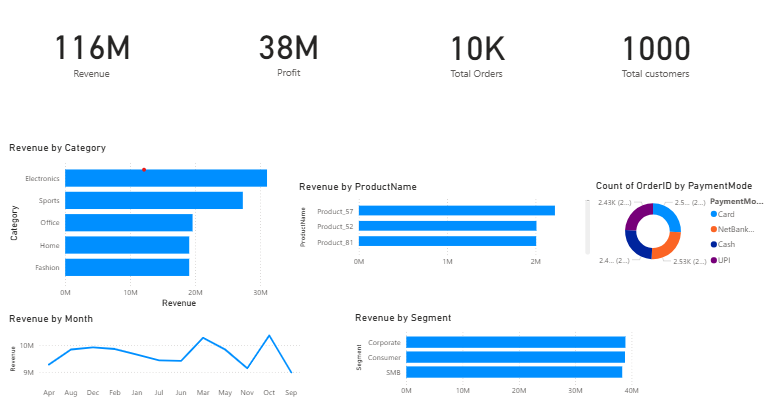

Layout of this report page (visuals, bound fields, positions):
{"tool":"powerbi","page":{"name":"Page 1","canvas":[1280,720],"ordinal":0},"visuals":[{"type":"card","fields":{"Values":["customers.Revenue"]},"box":[10,0,280,280],"z":0},{"type":"card","fields":{"Values":["customers.Profit"]},"box":[332.6,0,280.5,278.8],"z":1000},{"type":"card","fields":{"Values":["customers.Total Orders"]},"box":[640,1.7,280.5,278.8],"z":2000},{"type":"card","fields":{"Values":["customers.Total customers"]},"box":[934,1.7,280.5,278.8],"z":3000},{"type":"clusteredBarChart","fields":{"Category":["products.Category"],"Y":["customers.Revenue"]},"box":[10.1,290.6,487.1,278.8],"z":4000},{"type":"barChart","fields":{"Category":["products.ProductName"],"Y":["customers.Revenue"]},"box":[485.5,354.4,487.1,151.2],"z":5000},{"type":"donutChart","fields":{"Category":["orders.PaymentMode"],"Y":["CountNonNull(orders.OrderID)"]},"box":[971.9,352.4,291.7,152.4],"z":6000},{"type":"lineChart","fields":{"Category":["orders.Month"],"Y":["customers.Revenue"]},"box":[10,570,487,150],"z":7000},{"type":"barChart","fields":{"Category":["customers.Segment"],"Y":["customers.Revenue"]},"box":[576.9,568.7,475.3,149.1],"z":8000}]}

Visuals, with their boxes on the page's 1280x720 design canvas (x1, y1, x2, y2). These are canvas units, not pixel positions in the 775x401 screenshot, which may show the page scaled, cropped or inside an application window:
card - customers.Revenue: x1=10 y1=0 x2=290 y2=280
card - customers.Profit: x1=333 y1=0 x2=613 y2=279
card - customers.Total Orders: x1=640 y1=2 x2=920 y2=280
card - customers.Total customers: x1=934 y1=2 x2=1214 y2=280
clusteredBarChart - products.Category x customers.Revenue: x1=10 y1=291 x2=497 y2=569
barChart - products.ProductName x customers.Revenue: x1=486 y1=354 x2=973 y2=506
donutChart - orders.PaymentMode x CountNonNull(orders.OrderID): x1=972 y1=352 x2=1264 y2=505
lineChart - orders.Month x customers.Revenue: x1=10 y1=570 x2=497 y2=720
barChart - customers.Segment x customers.Revenue: x1=577 y1=569 x2=1052 y2=718
